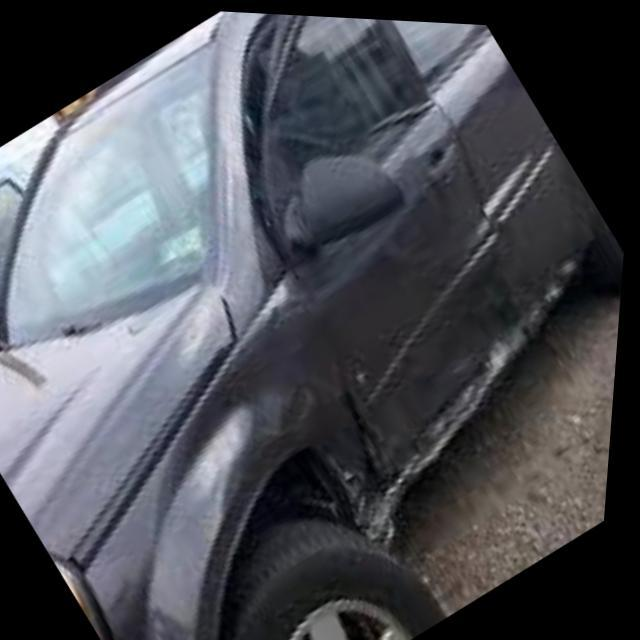crack: (238, 224, 600, 549)
